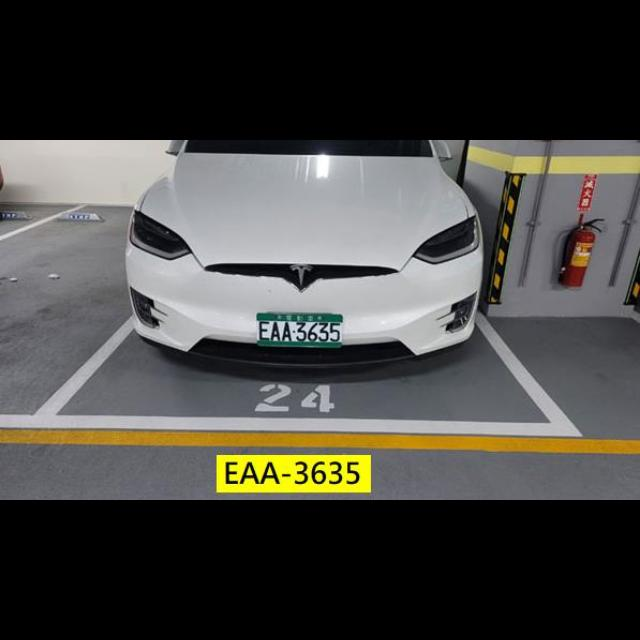plate: (257, 314, 343, 347)
